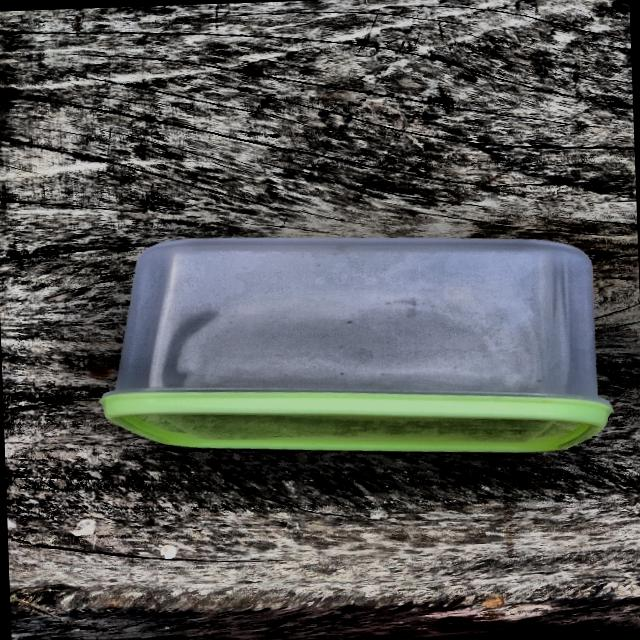plastic container: (67, 215, 628, 500)
